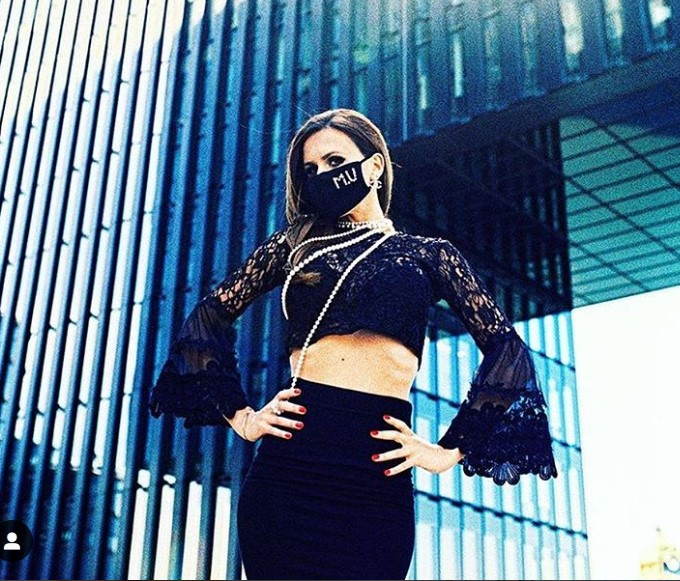face_with_mask: (289, 115, 387, 227)
